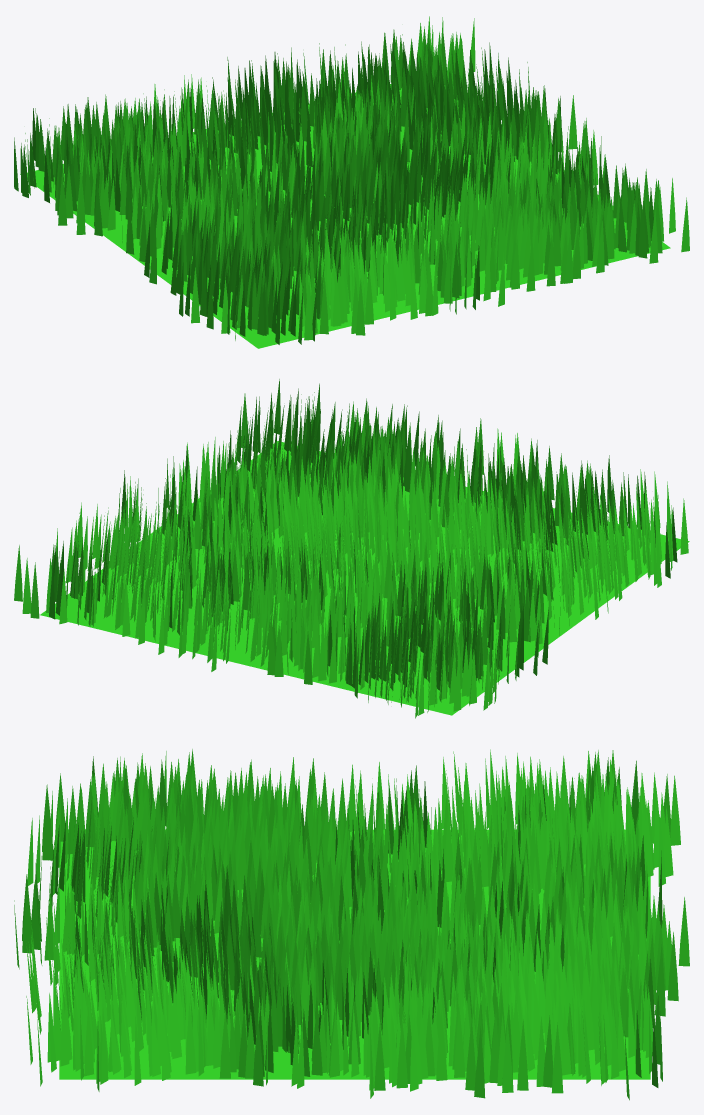
The model's file is grama.fbx.
The picture shows the model from 3 angles, top to bottom: view 1: azimuth 30°, elevation 25°; view 2: azimuth 150°, elevation 25°; view 3: azimuth 270°, elevation 25°; orthographic projection. The views are drawn at different scales.
Parts seen in each view (by area): view 1: Plane; view 2: Plane; view 3: Plane.
Part boxes in pixels (left/top/right/bottom): Plane: left=20, top=84, right=670, bottom=348; Plane: left=40, top=441, right=689, bottom=715; Plane: left=59, top=829, right=650, bottom=1079.
Bounding box in the file's own units: 228 × 26.54 × 229.
